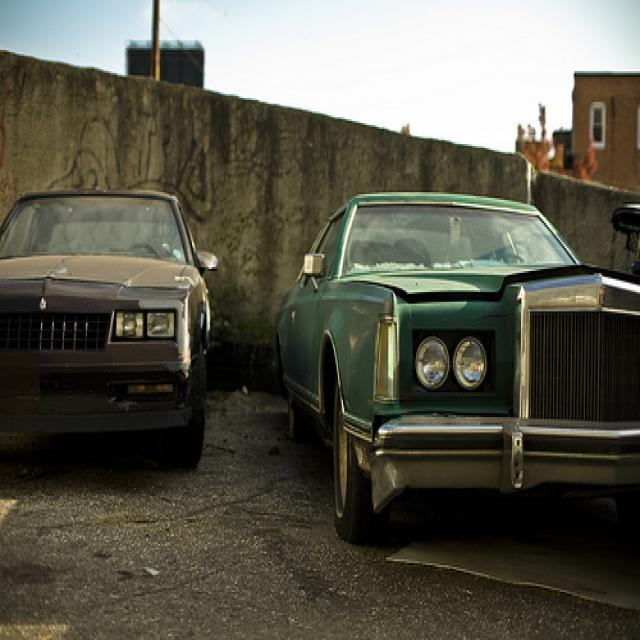Car: (262, 185, 640, 548), (0, 194, 227, 463)
